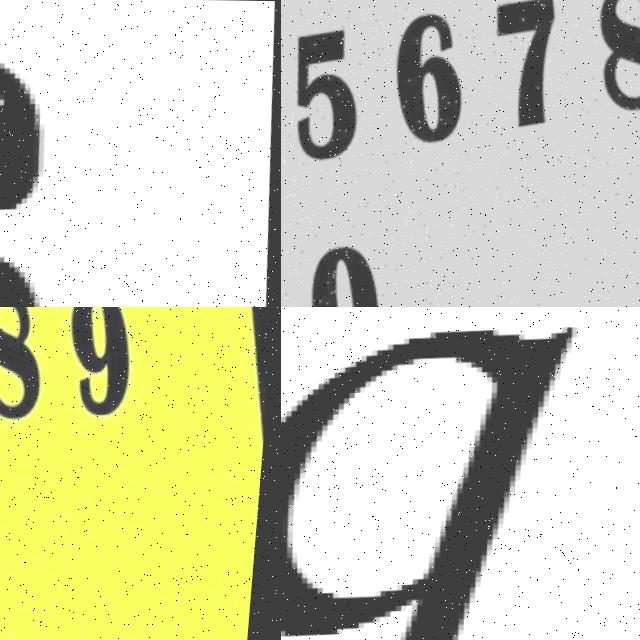0: (296, 215, 416, 307)
5: (281, 2, 388, 182)
6: (0, 41, 90, 307), (379, 0, 488, 153)
7: (480, 0, 591, 151)
8: (0, 307, 67, 428), (581, 0, 640, 124)
9: (56, 307, 157, 438)
Q: (281, 307, 606, 640)
